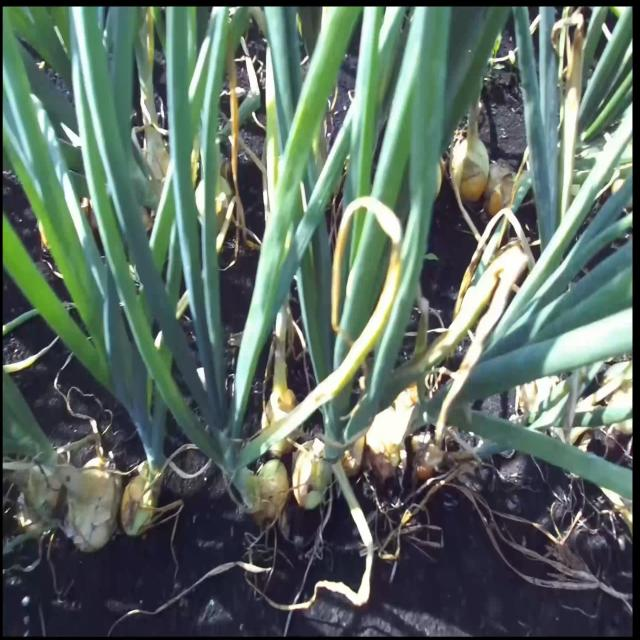onion: (63, 462, 119, 550), (450, 107, 490, 202), (292, 438, 332, 510), (367, 410, 406, 481), (17, 460, 60, 524), (252, 458, 289, 527), (193, 170, 233, 231), (120, 470, 158, 530)
